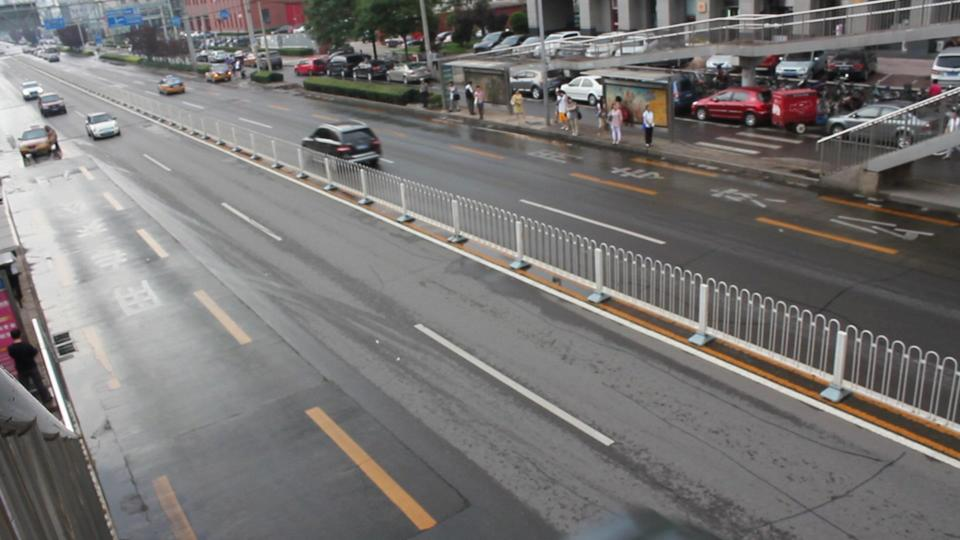car: (824, 102, 946, 147), (301, 121, 384, 169), (820, 104, 907, 134), (509, 63, 574, 99), (16, 125, 65, 163), (774, 50, 829, 81), (582, 28, 632, 60), (825, 49, 869, 82), (472, 32, 541, 52), (560, 76, 604, 106), (930, 47, 960, 88), (84, 111, 122, 140), (386, 63, 435, 85), (542, 28, 581, 52), (701, 53, 745, 73), (626, 31, 656, 59), (208, 61, 239, 87), (293, 56, 331, 77), (37, 92, 68, 117), (157, 75, 187, 95), (20, 80, 43, 100), (714, 108, 720, 109)
person: (5, 332, 47, 397), (555, 91, 582, 132), (605, 101, 627, 145), (641, 105, 656, 146), (473, 84, 488, 117), (510, 89, 527, 117), (447, 82, 461, 112), (927, 79, 943, 99)
truck: (690, 86, 760, 135), (775, 87, 826, 135)
